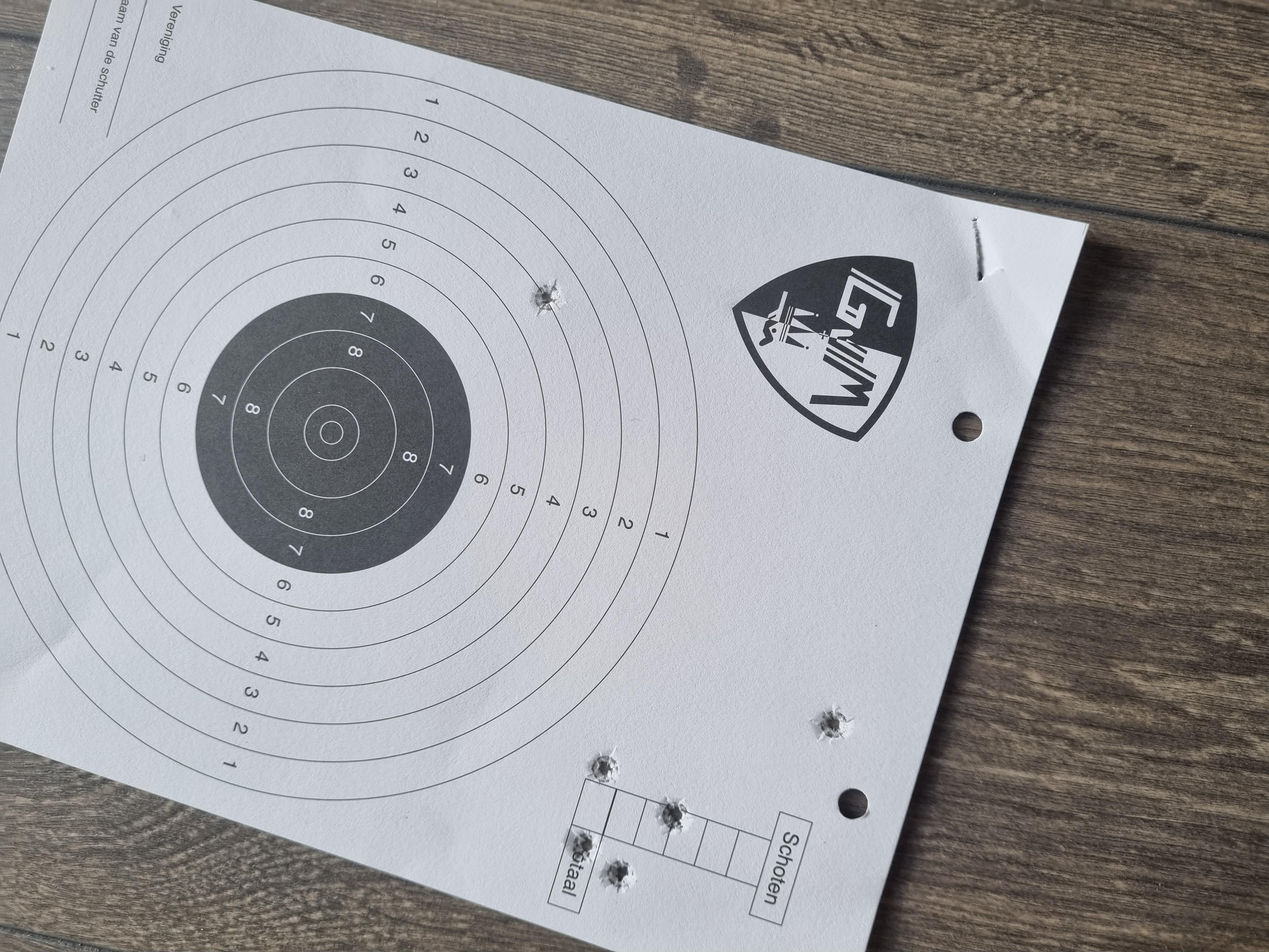hole: (270, 609, 330, 640), (157, 491, 209, 518), (117, 422, 168, 449), (79, 448, 126, 476), (222, 441, 268, 466), (850, 398, 897, 421)
